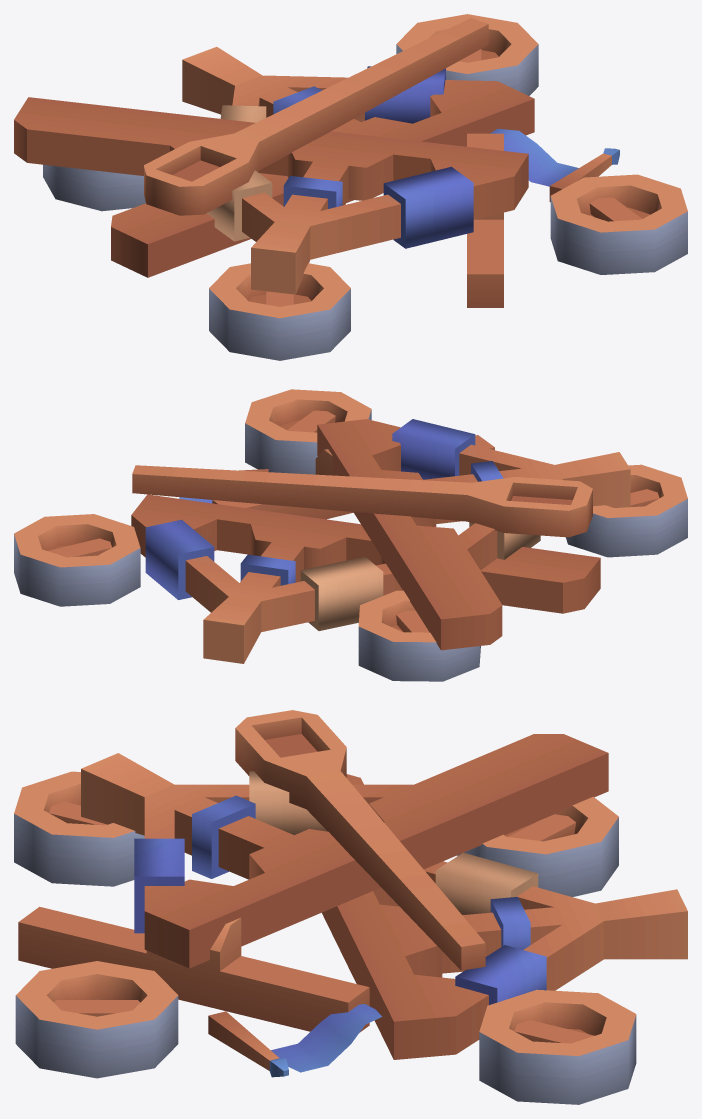
File: siege-catapult-demolished.glb
3 views of the same model, one above another, from view 1: azimuth 30°, elevation 25°; view 2: azimuth 150°, elevation 25°; view 3: azimuth 270°, elevation 25° (orthographic). The views are drawn at different scales.
Visible parts, largest first — view 1: siege-catapult-demolished; view 2: siege-catapult-demolished; view 3: siege-catapult-demolished.
Boxes of the visible parts, x1,y1,x2,y2 form: siege-catapult-demolished: (14,14,687,360); siege-catapult-demolished: (14,389,687,681); siege-catapult-demolished: (14,710,687,1104).
Bounding box in the file's own units: 1.68 × 0.3212 × 1.67.
1 material, 1 textured.
